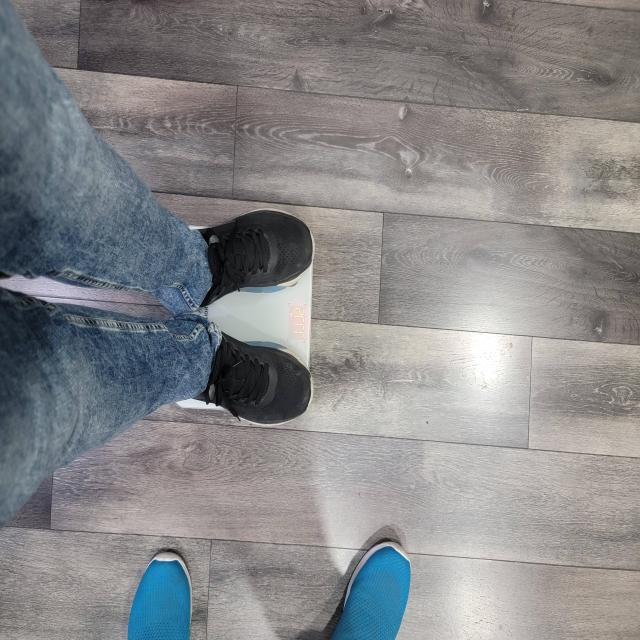ws: (199, 215, 313, 374)
